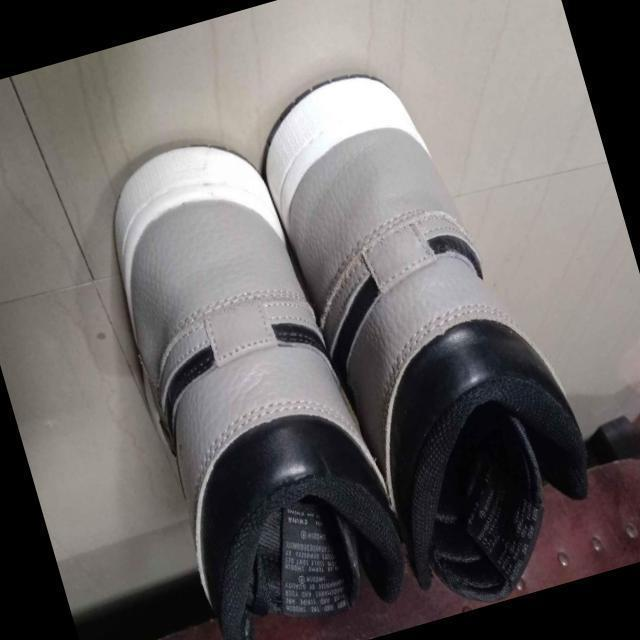nike fake jordan 1: (242, 40, 620, 632), (71, 114, 423, 640)
